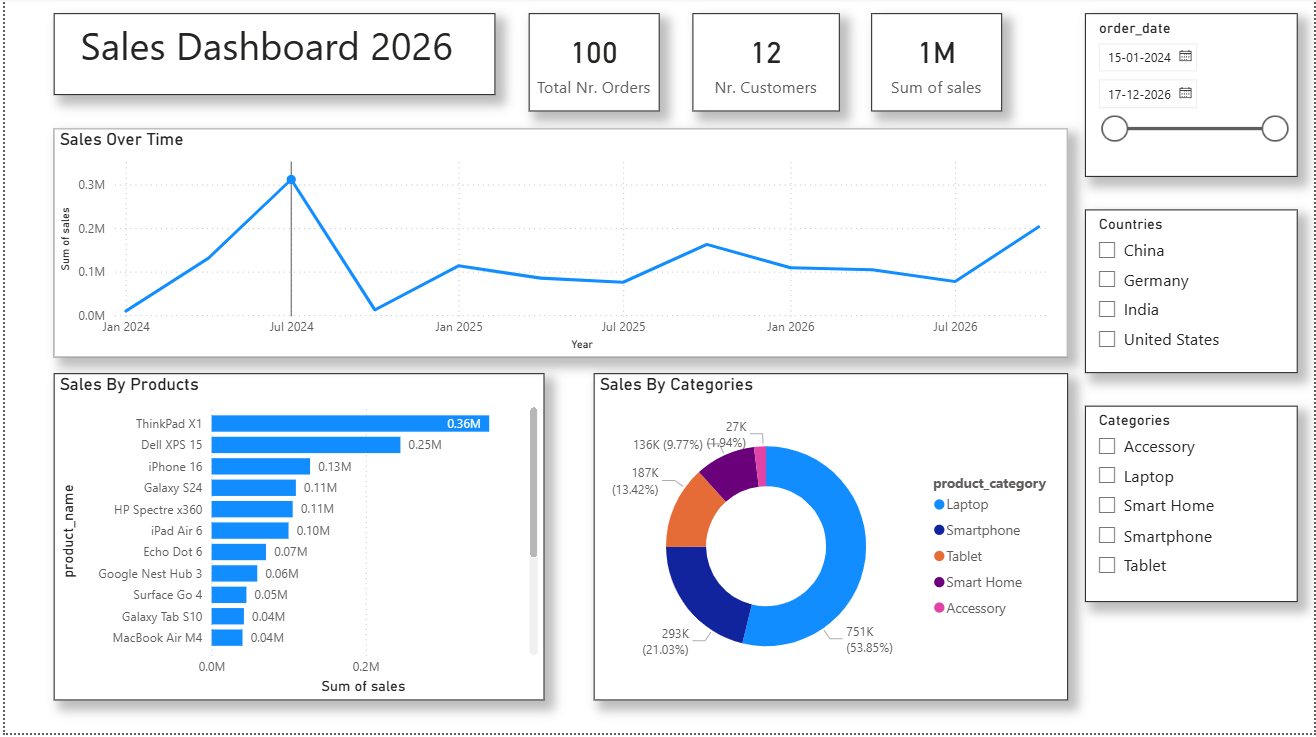

The page's visual inventory and layout, read from the dashboard file:
{"tool":"powerbi","page":{"name":"Page 1","canvas":[1280,720],"ordinal":0},"visuals":[{"type":"barChart","title":"Sales By Products","fields":{"Category":["orders.product_name"],"Y":["Sum(orders.sales)"]},"box":[48,368,480,320],"z":0},{"type":"donutChart","title":"Sales By Categories","fields":{"Y":["Sum(orders.sales)"],"Category":["orders.product_category"]},"box":[576,368,464,320],"z":1000},{"type":"card","fields":{"Values":["CountNonNull(orders.order_id)"]},"box":[512,16,128,96],"z":2000},{"type":"card","fields":{"Values":["Count(orders.customer_id)"]},"box":[672,16,144,96],"z":3000},{"type":"card","fields":{"Values":["Sum(orders.sales)"]},"box":[848,16,128,96],"z":4000},{"type":"lineChart","title":"Sales Over Time","fields":{"Category":["orders.order_date.Variation.Date Hierarchy.Year","orders.order_date.Variation.Date Hierarchy.Quarter","orders.order_date.Variation.Date Hierarchy.Month","orders.order_date.Variation.Date Hierarchy.Day"],"Y":["Sum(orders.sales)"]},"box":[48,128,992,224],"z":5000},{"type":"slicer","fields":{"Values":["customers.country"]},"box":[1056,208,208,160],"z":6000},{"type":"slicer","fields":{"Values":["orders.product_category"]},"box":[1056,400,208,192],"z":7000},{"type":"slicer","fields":{"Values":["orders.order_date"]},"box":[1056,16,208,160],"z":8000},{"type":"textbox","box":[48,16,432,80],"z":9000}]}

Visuals, with their boxes in screenshot pixels (x1, y1, x2, y2), scaled from the page's 1280x720 canvas onto the 1316x737 screenshot:
"Sales By Products" barChart: box(49, 377, 543, 704)
"Sales By Categories" donutChart: box(592, 377, 1069, 704)
card - CountNonNull(orders.order_id): box(526, 16, 658, 115)
card - Count(orders.customer_id): box(691, 16, 839, 115)
card - Sum(orders.sales): box(872, 16, 1003, 115)
"Sales Over Time" lineChart: box(49, 131, 1069, 360)
slicer - customers.country: box(1086, 213, 1300, 377)
slicer - orders.product_category: box(1086, 409, 1300, 606)
slicer - orders.order_date: box(1086, 16, 1300, 180)
textbox: box(49, 16, 494, 98)
